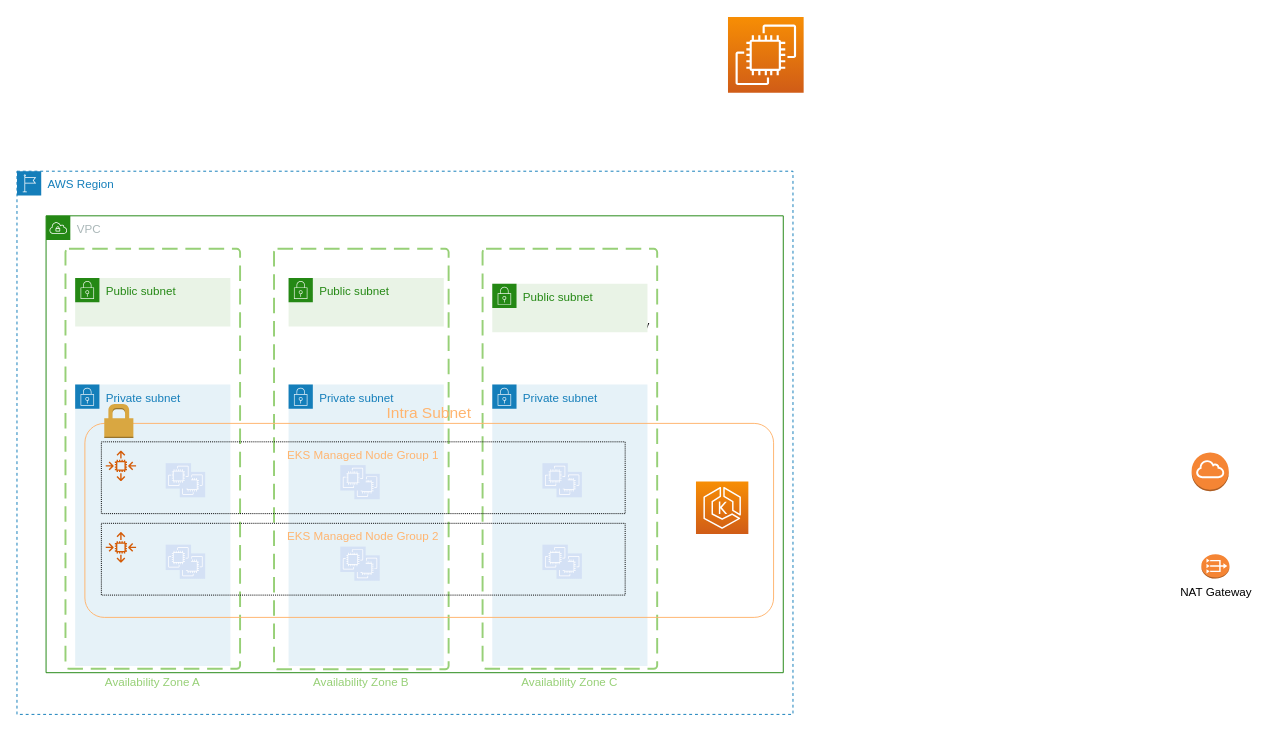
The diagram is 1272 pixels wide and 731 high, and some of its shapes have lost their labels. The centre of each missing label's shape, as x and y in pixels:
"EKS Cluster CP" belongs at (721,507).
"Internet Gateway" belongs at (1210,471).
